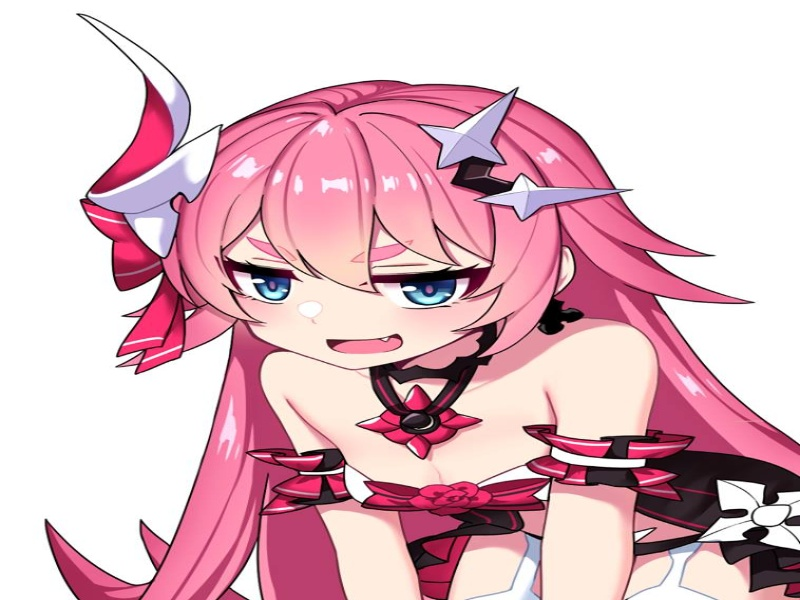person: (197, 135, 580, 380)
